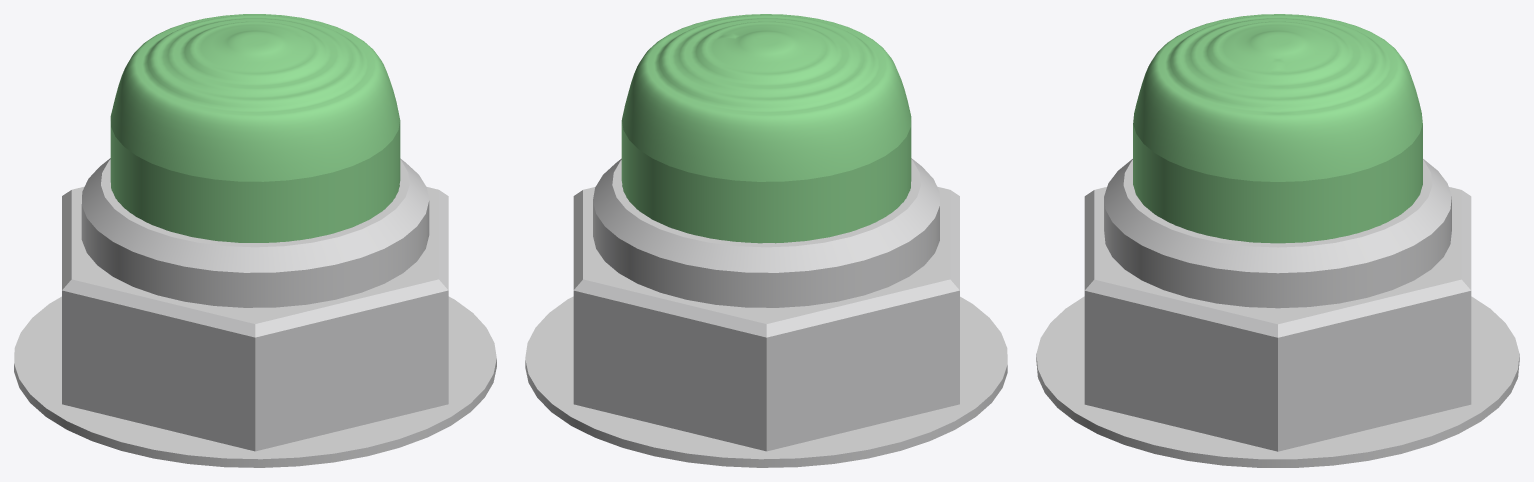
The model's file is button-4-l.obj.
3 renders of one model, left to right at view 1: azimuth 30°, elevation 25°; view 2: azimuth 150°, elevation 25°; view 3: azimuth 270°, elevation 25°, orthographic.
Visible parts, largest first — view 1: Body, Movable; view 2: Body, Movable; view 3: Body, Movable.
Boxes of the visible parts, x1=… form: Body: x1=14, y1=158, x2=496, y2=467; Movable: x1=110, y1=14, x2=400, y2=242; Body: x1=525, y1=158, x2=1007, y2=467; Movable: x1=621, y1=14, x2=911, y2=243; Body: x1=1036, y1=159, x2=1519, y2=467; Movable: x1=1133, y1=14, x2=1422, y2=243.
Size of the model in its own units: 4.99 by 3.72 by 5.
